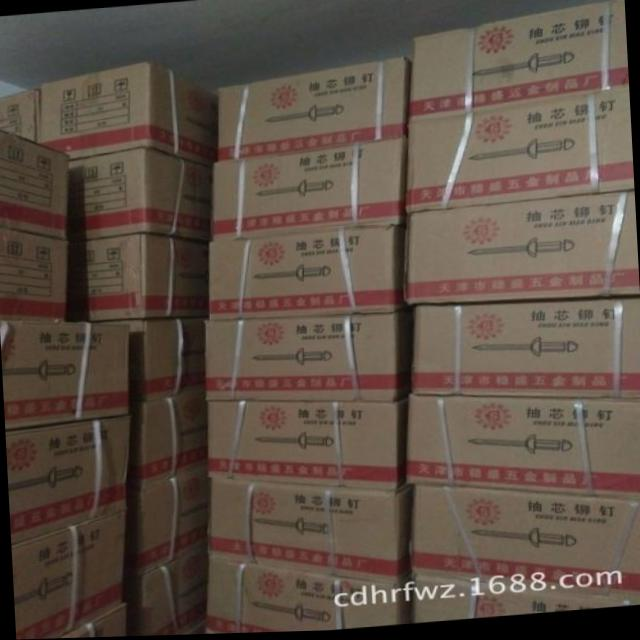box: (405, 88, 635, 214), (410, 1, 629, 123), (412, 488, 640, 604), (404, 195, 640, 306), (407, 398, 640, 503), (412, 303, 640, 401), (206, 480, 413, 585), (218, 58, 413, 162), (209, 226, 415, 321), (213, 140, 407, 239), (207, 400, 409, 493), (39, 61, 217, 166), (206, 315, 414, 403), (5, 416, 129, 545), (207, 559, 414, 635), (11, 512, 126, 640), (0, 321, 131, 428), (67, 148, 212, 242), (68, 234, 210, 321), (415, 578, 640, 626), (126, 469, 212, 576), (99, 318, 207, 402), (126, 390, 207, 490), (0, 129, 71, 239), (124, 547, 208, 637), (0, 227, 69, 321), (55, 604, 126, 639), (0, 89, 40, 143), (181, 621, 206, 636)
